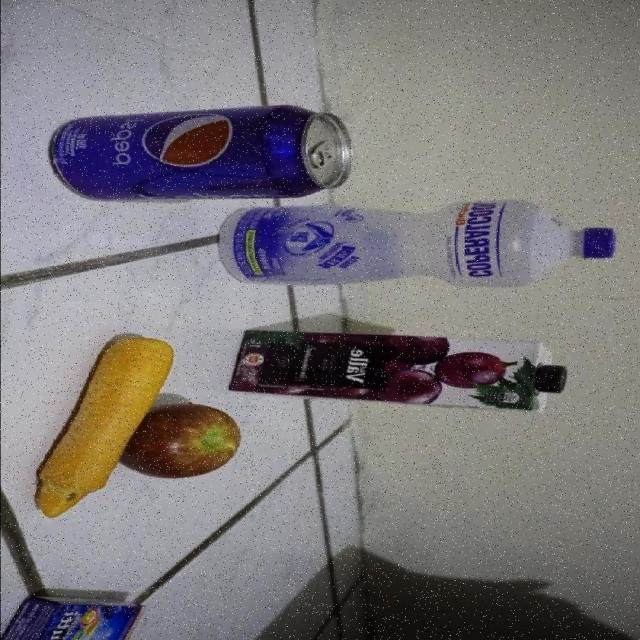AlcoholBottle: (214, 201, 618, 291)
Carrot: (29, 335, 174, 524)
Gelatine: (0, 592, 150, 640)
SodaCan: (47, 105, 355, 203)
